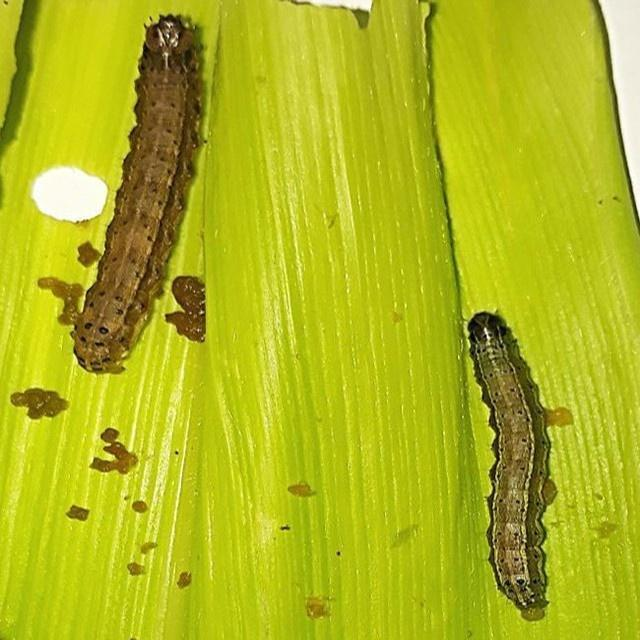gusano_cogollero: (70, 9, 210, 380), (459, 298, 550, 608)
